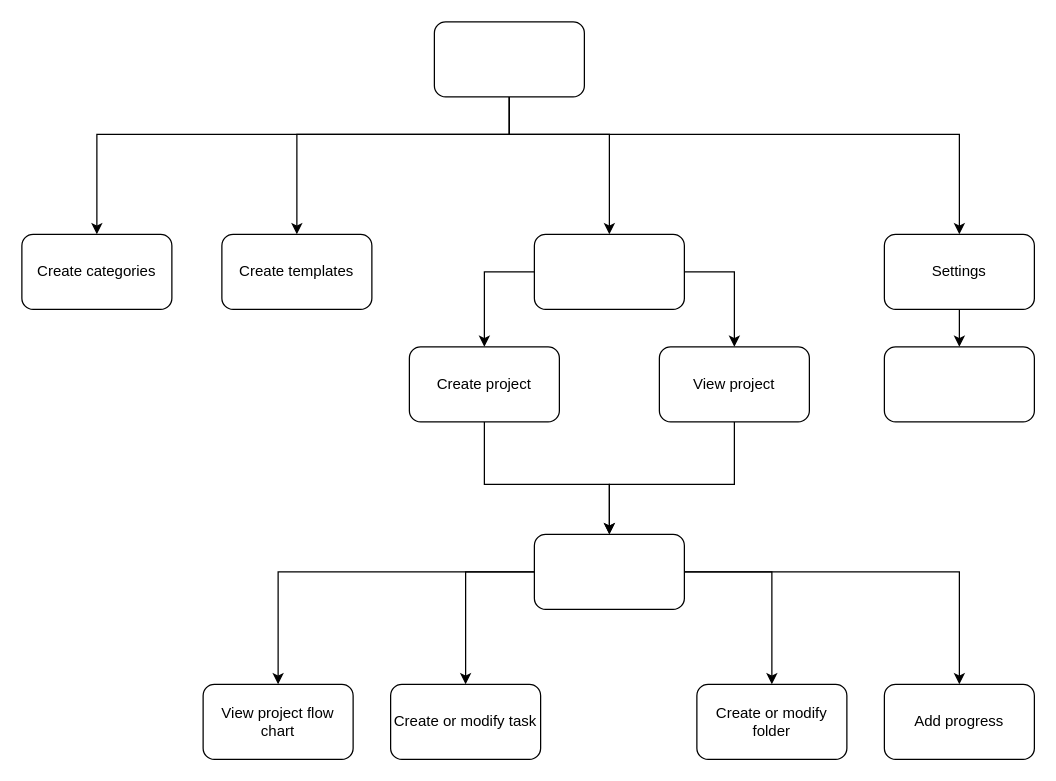
Image size: 1056x781. Some labels were removed from this diagram. Each missing label, with the box of its shape:
Backup/Restore: (883, 346, 1034, 422)
Open app: (433, 21, 584, 97)
Project Home page: (533, 533, 684, 609)
View all projects: (533, 233, 684, 309)
